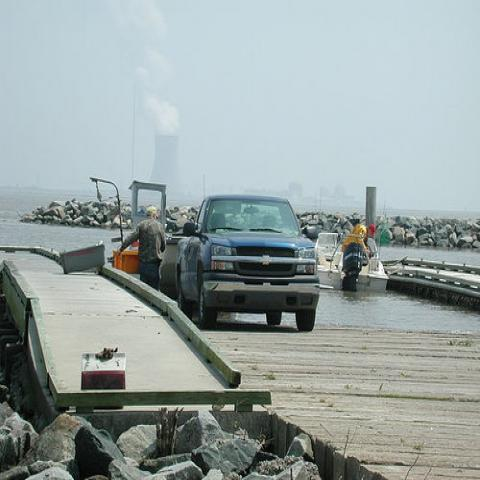truck: (176, 201, 319, 331)
